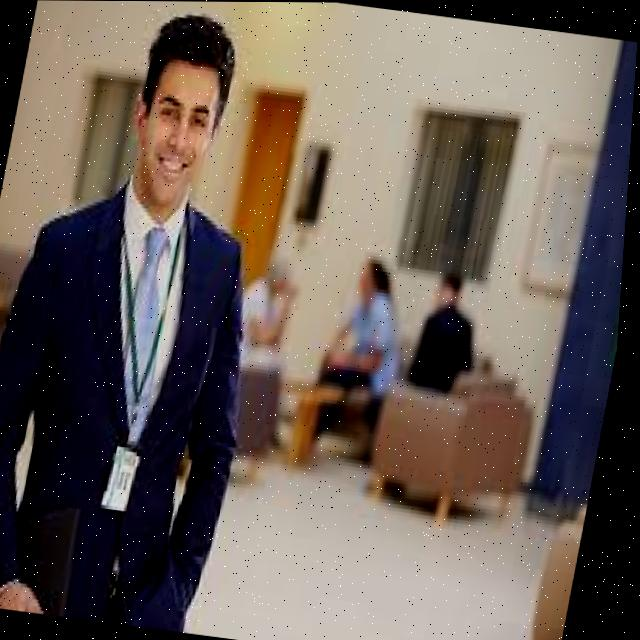id_card: (68, 214, 209, 525)
